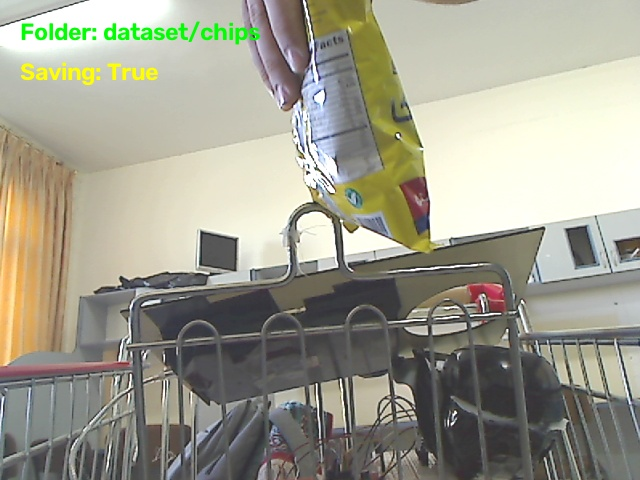chips: (293, 0, 433, 251)
